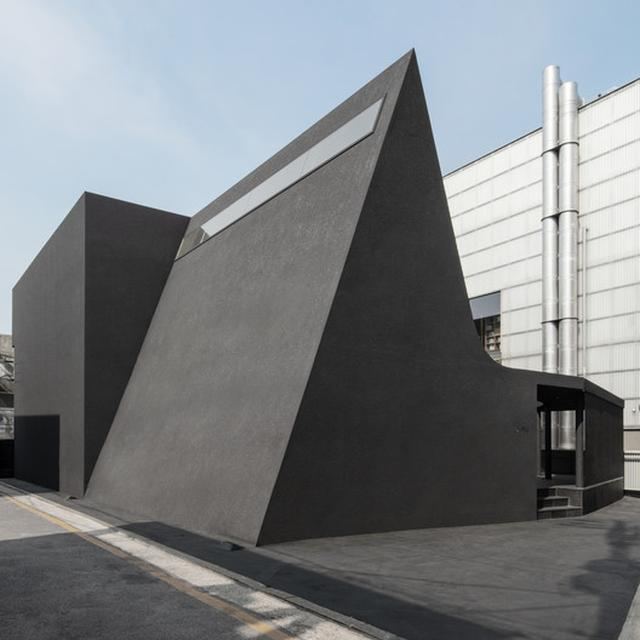building: (14, 48, 620, 548), (443, 78, 640, 504)
